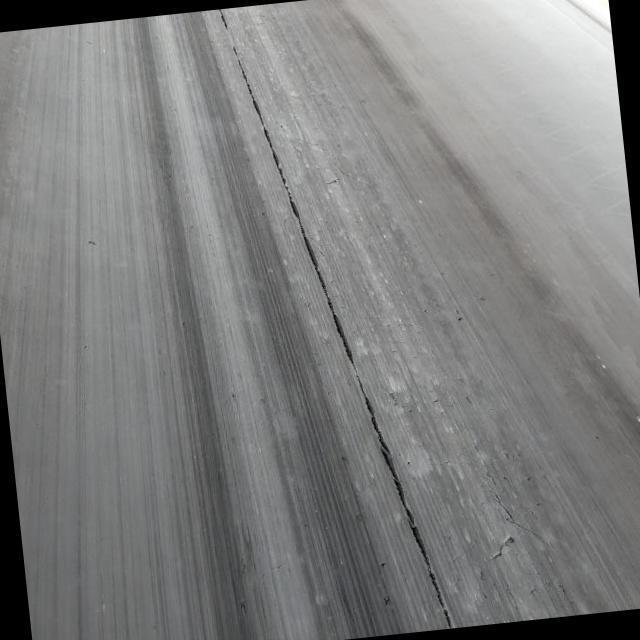Tear: (214, 6, 456, 634)
